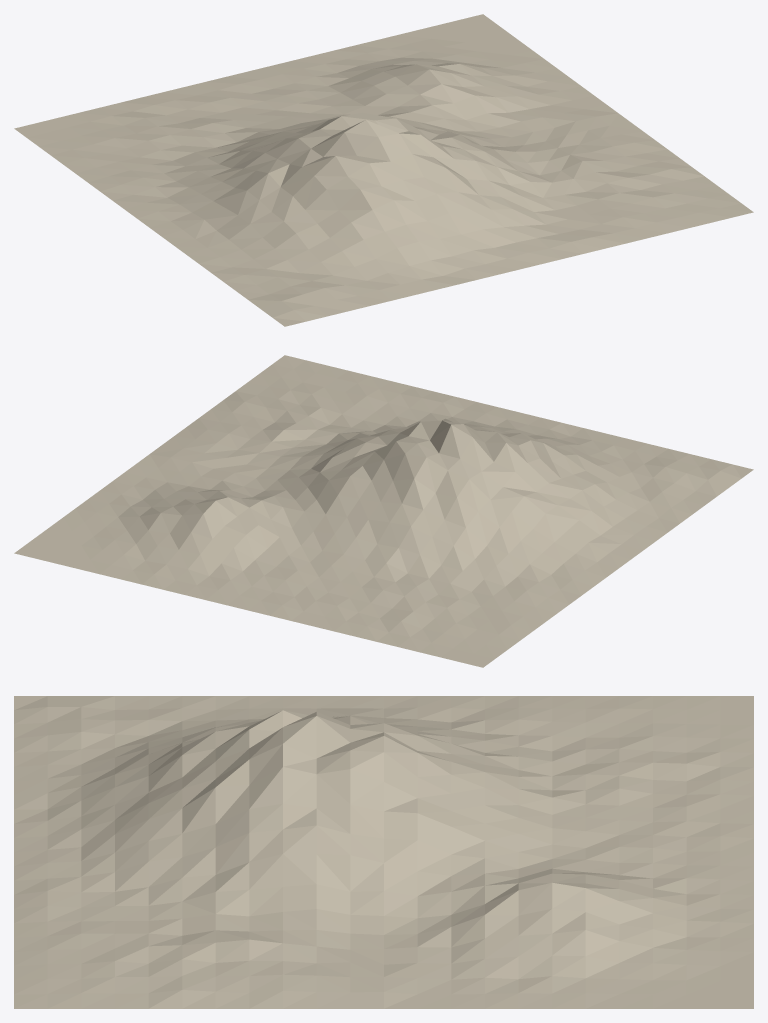
Rendered from Ground_s_07.fbx.
3 renders of one model, top to bottom at view 1: azimuth 30°, elevation 25°; view 2: azimuth 150°, elevation 25°; view 3: azimuth 270°, elevation 25°, orthographic. The views are drawn at different scales.
Visible parts, largest first — view 1: Ground_s_07; view 2: Ground_s_07; view 3: Ground_s_07.
Boxes of the visible parts, bbox=[...] form: Ground_s_07: bbox=[14, 14, 753, 326]; Ground_s_07: bbox=[14, 355, 753, 667]; Ground_s_07: bbox=[14, 696, 753, 1008].
Bounding box in the file's own units: 5000 × 807 × 5000.
